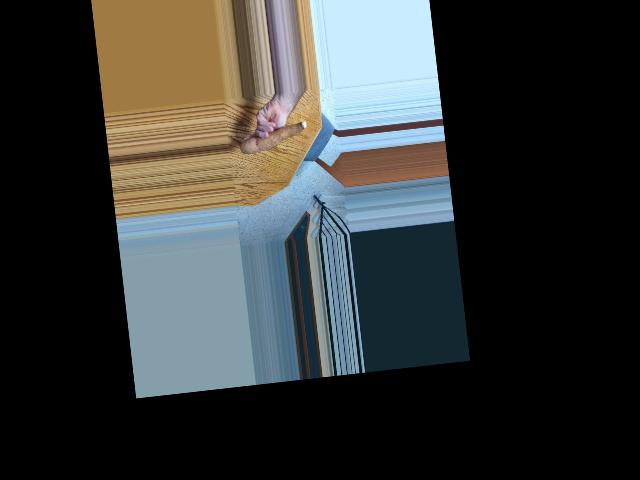sweet_potato: (239, 118, 311, 157)
